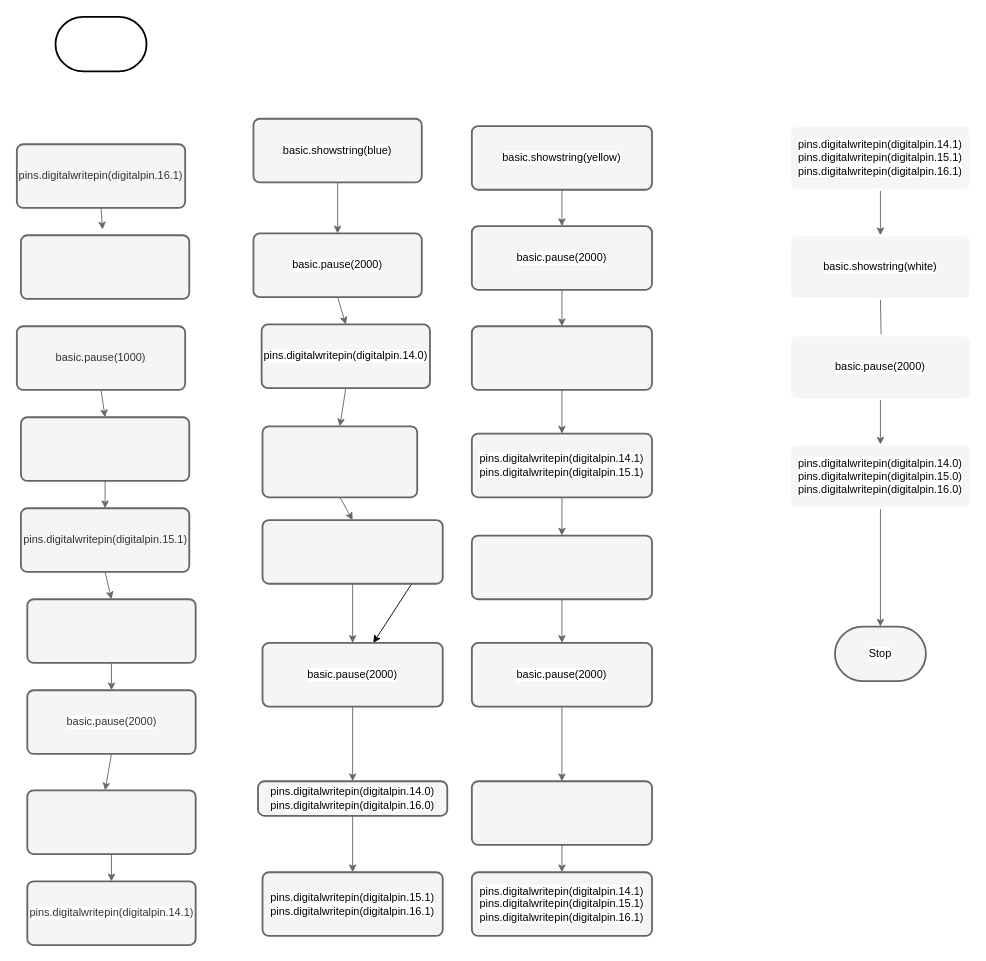
The diagram is 986 pixels wide and 961 high, and some of its shapes have lost their labels. The shapes that lost their labels are listed below. From the top down, each one's box as (x1, y1, x2, y2) in pixels, then its label:
(54, 15, 147, 72): Start
(20, 234, 190, 299): basic.showstring(red)
(470, 325, 652, 390): pins.digitalwritepin(digitalpin.15.0) pins.digitalwritepin(digitalpin.16.0)
(20, 416, 190, 481): pins.digitalwritepin(digitalpin.16.0)
(261, 425, 418, 498): pins.digitalwritepin(digitalpin.14.1) pins.digitalwritepin(digitalpin.16.1)
(261, 519, 443, 584): basic.showstring(magenta)
(470, 534, 652, 600): basic.showstring(cyan)
(26, 598, 196, 663): basic.showstring(Green)
(26, 789, 196, 854): pins.digitalwritepin(digitalpin.15.0)
(470, 780, 652, 845): pins.digitalwritepin(digitalpin.14.0) pins.digitalwritepin(digitalpin.15.0)
